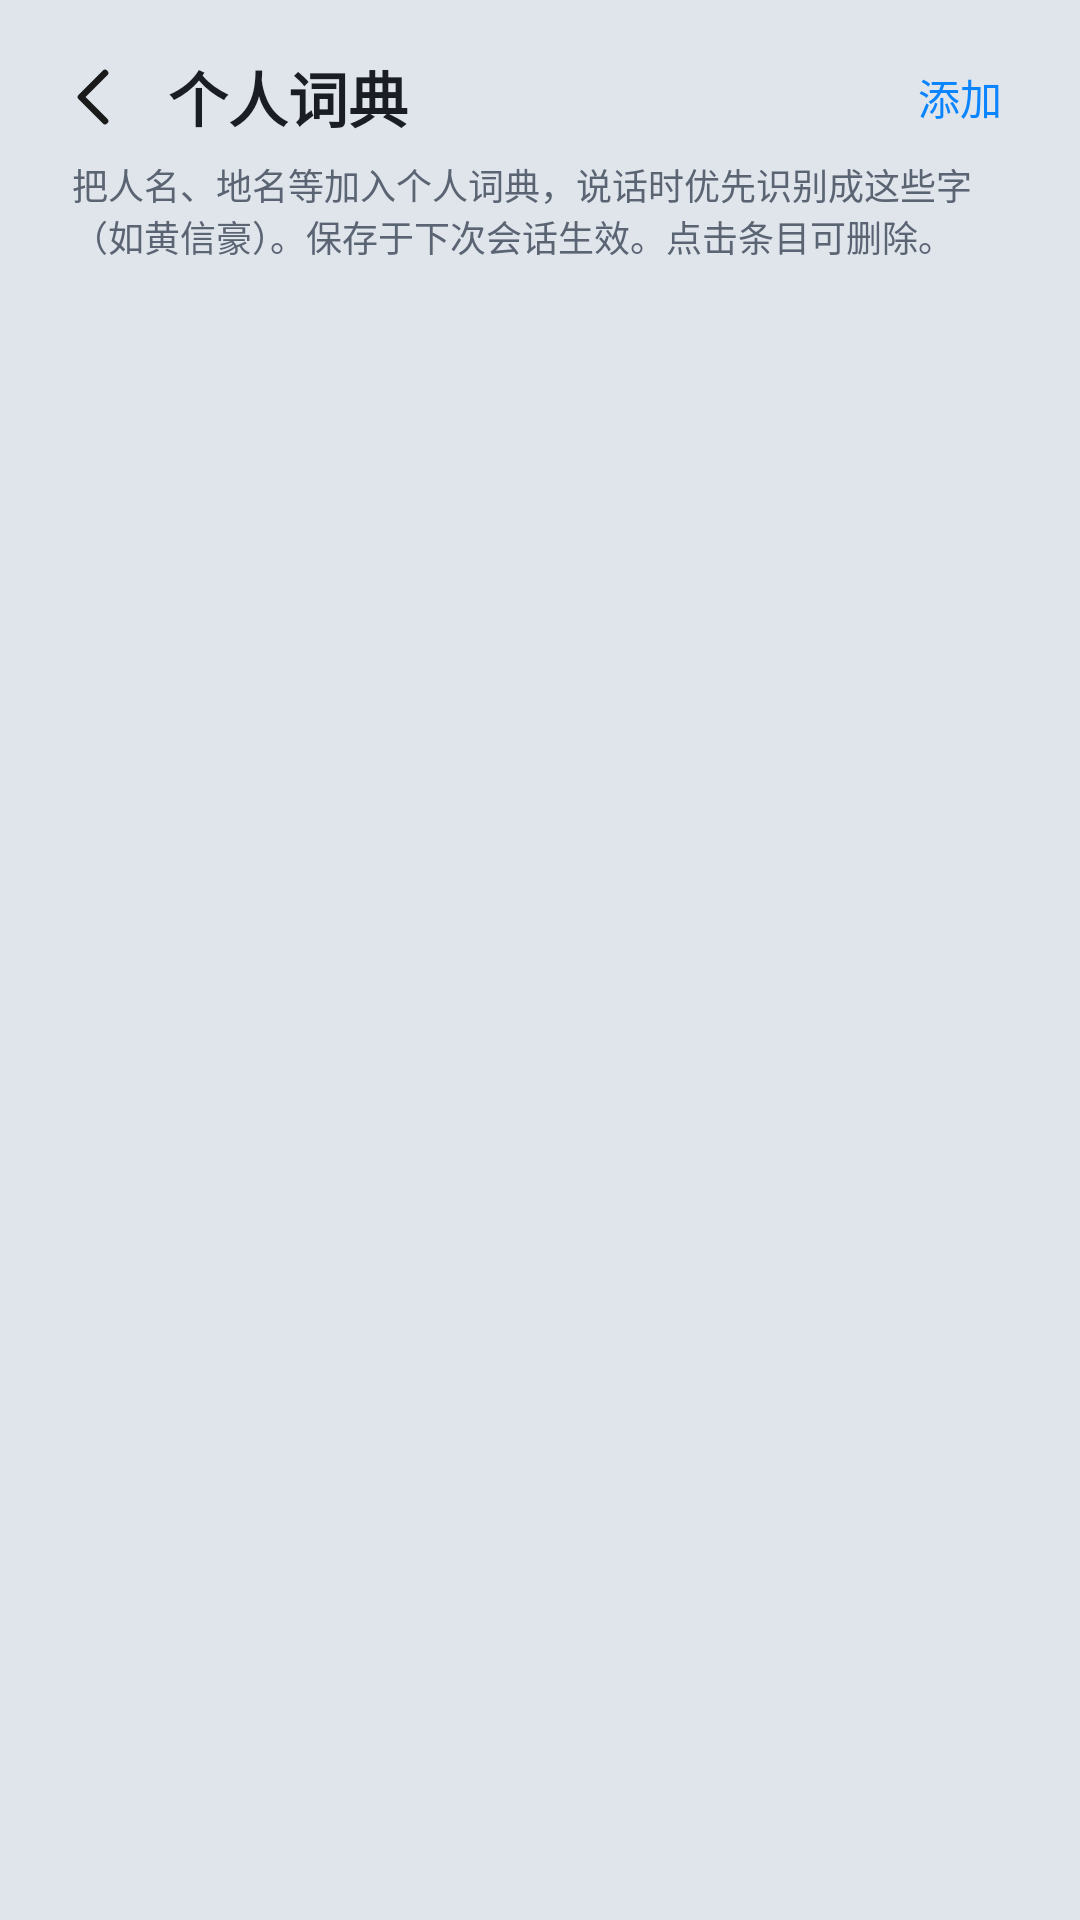

Point at icon controls on the screen. Image size 1080w x 1920h, points as point (x, y).
返回: point (93, 97)
